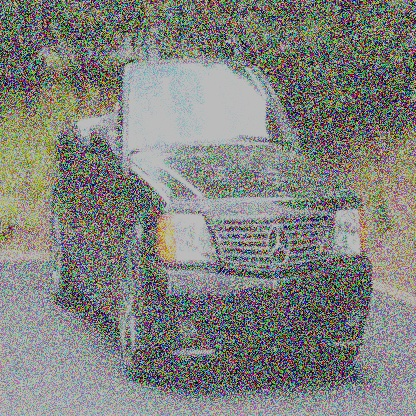Vehicle: (50, 58, 374, 382)
